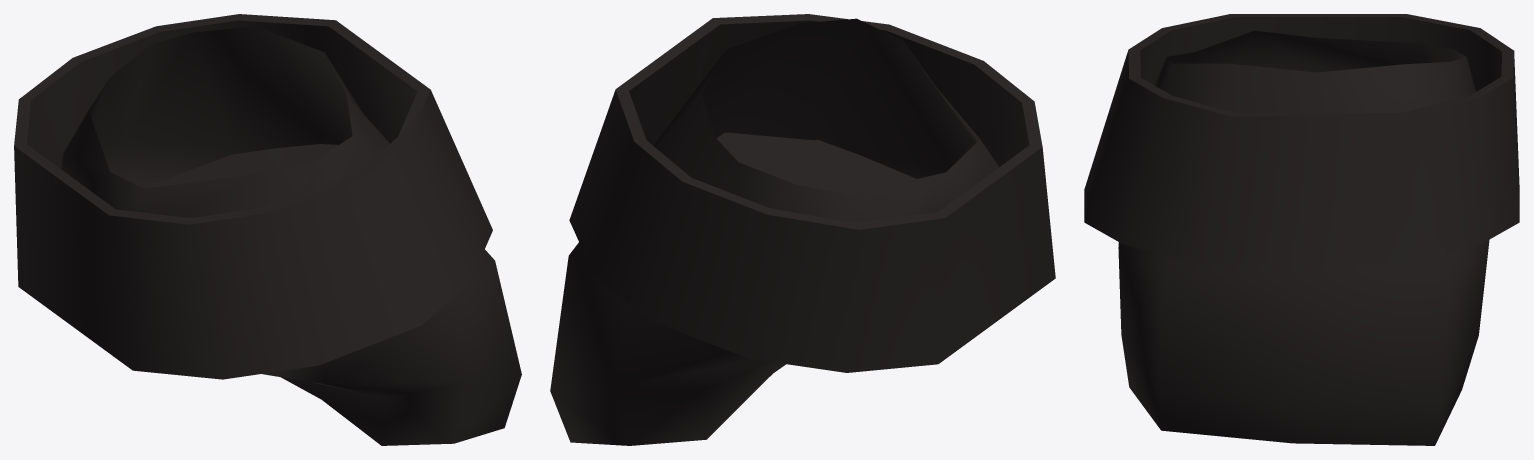
File: glove L.obj
3 views of the same model, side by side, from view 1: azimuth 30°, elevation 25°; view 2: azimuth 150°, elevation 25°; view 3: azimuth 270°, elevation 25° (orthographic). The views are drawn at different scales.
Visible parts, largest first — view 1: glove_L; view 2: glove_L; view 3: glove_L.
Part boxes in pixels (box(x1,y1,x2,y2)): glove_L: box(14, 14, 521, 445); glove_L: box(550, 14, 1055, 445); glove_L: box(1084, 14, 1519, 445).
Bounding box in the file's own units: 0.8213 × 0.7521 × 0.8904.
